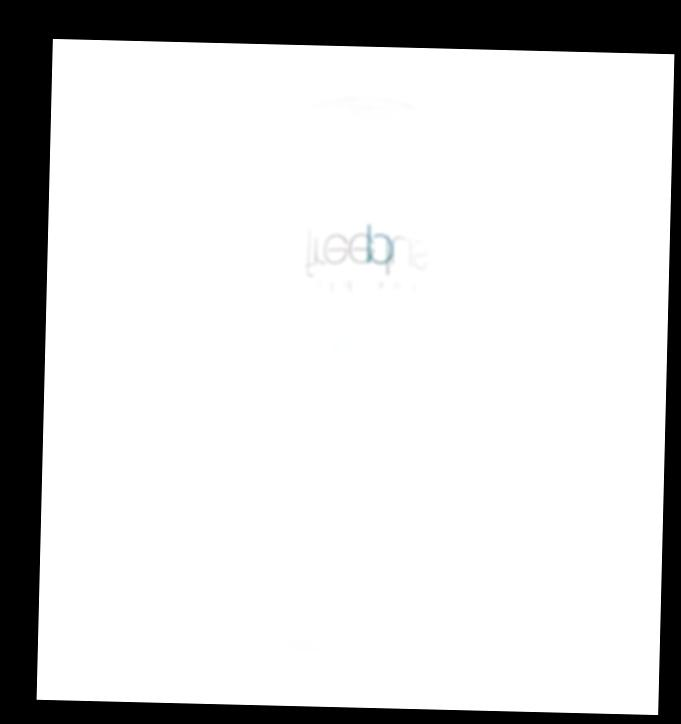cosmetic: (246, 94, 494, 673)
